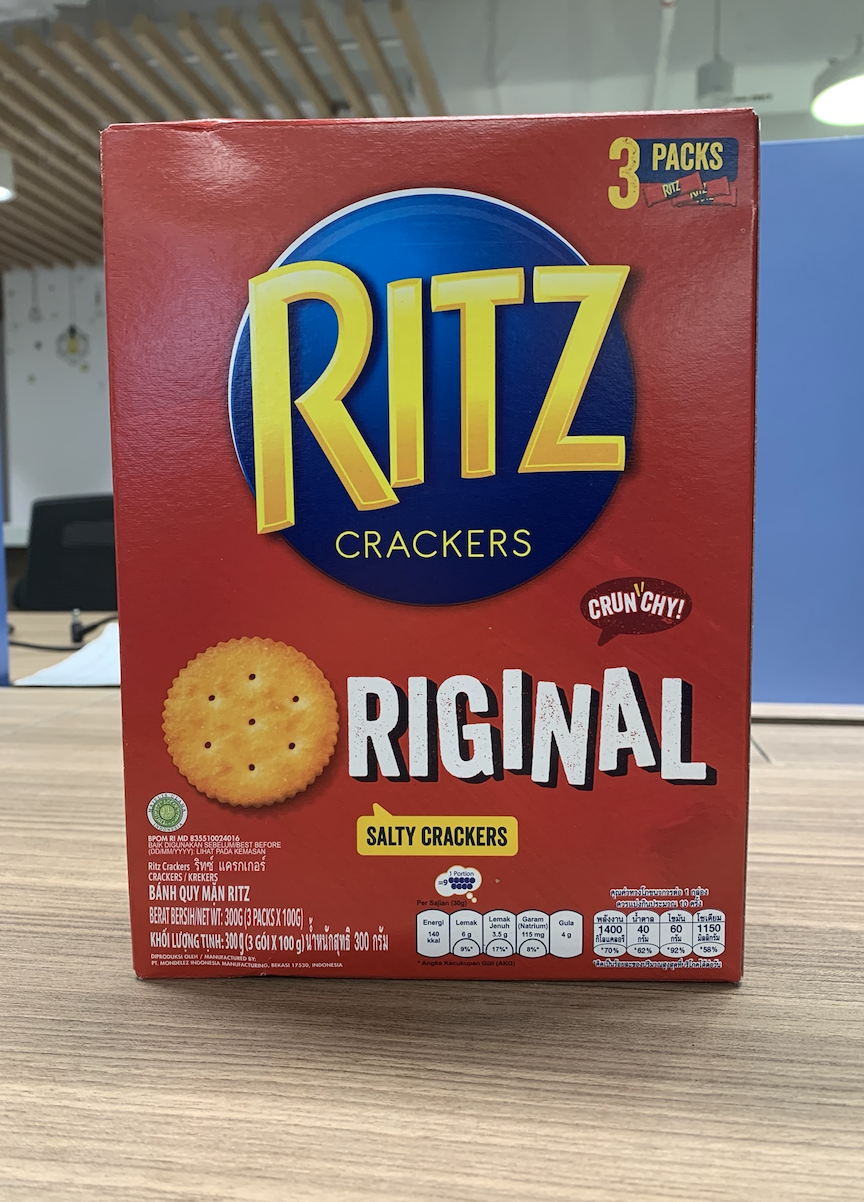crackers_450g: (138, 132, 738, 980)
